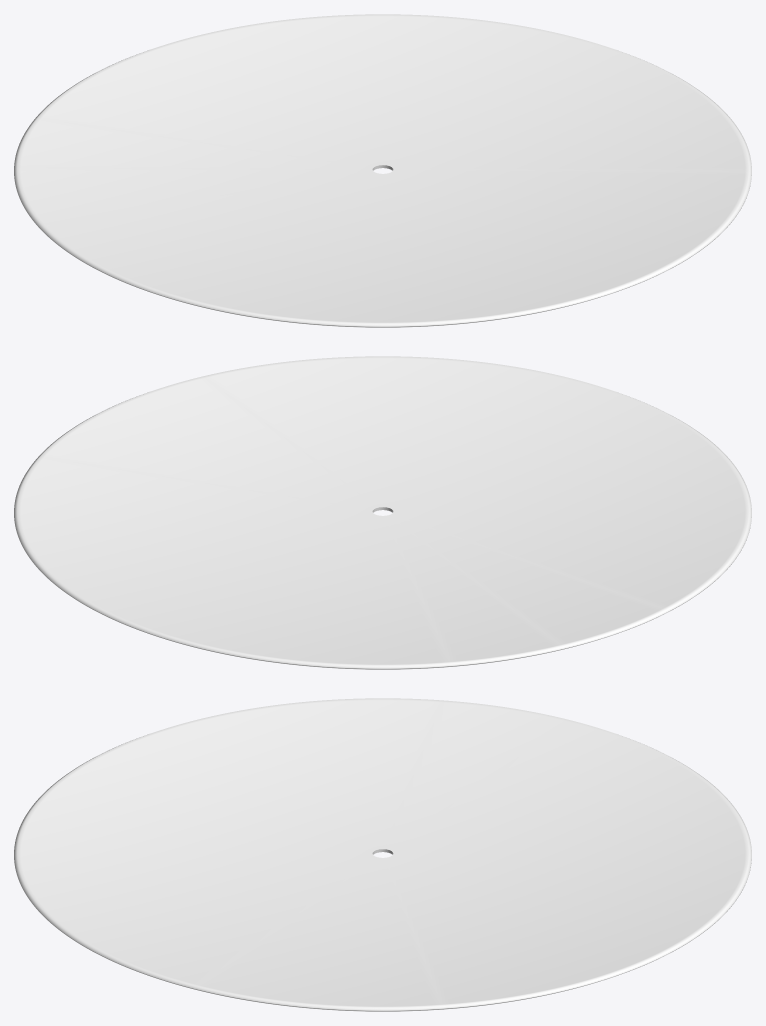
File: vinyl_10_heavy.dae
3 views of the same model, one above another, from view 1: azimuth 30°, elevation 25°; view 2: azimuth 150°, elevation 25°; view 3: azimuth 270°, elevation 25° (orthographic).
Visible parts, largest first — view 1: vinyl; view 2: vinyl; view 3: vinyl.
Boxes of the visible parts, x1,y1,x2,y2 form: vinyl: [14, 14, 751, 327]; vinyl: [14, 356, 751, 669]; vinyl: [14, 698, 751, 1011].
Size of the model in its own units: 25 by 0.1699 by 25.
1 material, 1 textured.
